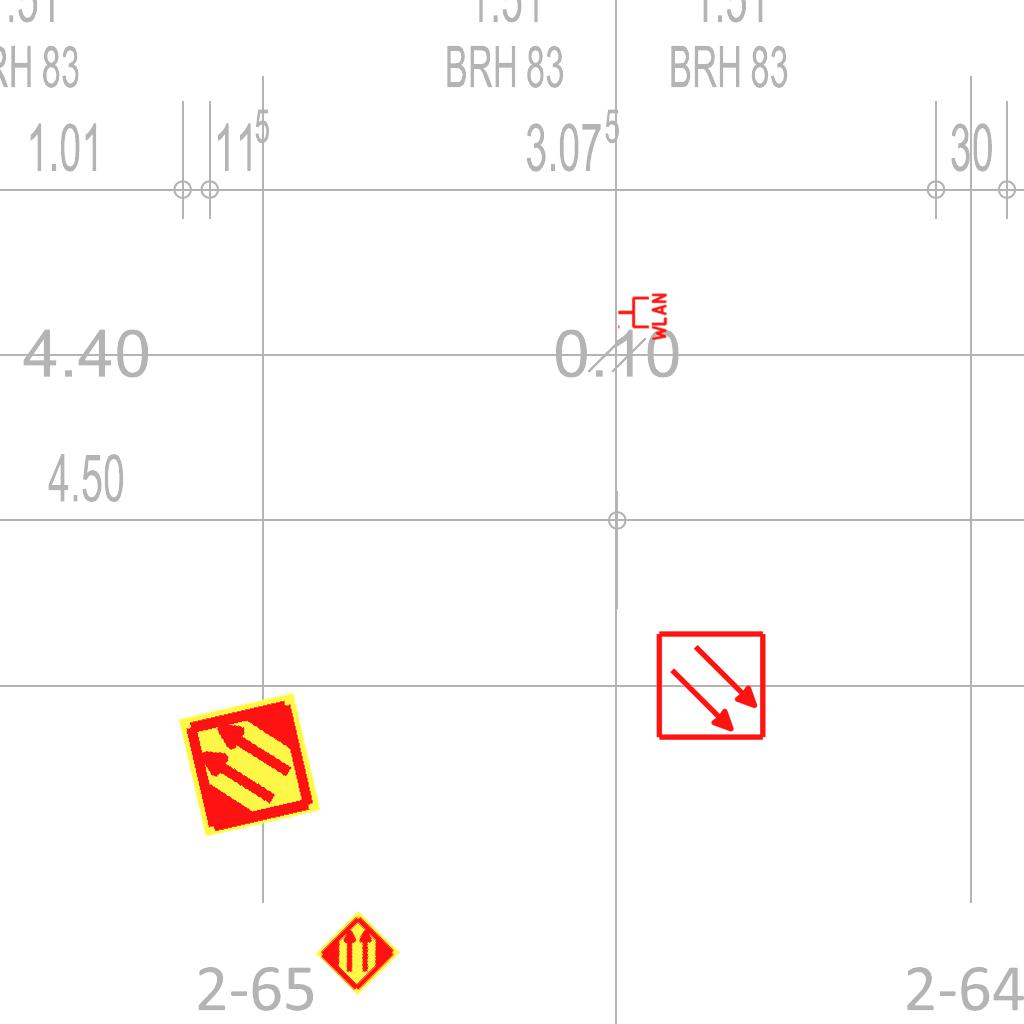ASR_Ansaugrauchmelder: (174, 689, 325, 840), (314, 909, 402, 997)
RMO_Rauchmelder_optischer: (655, 629, 768, 742)
WLAN: (616, 291, 668, 343)
